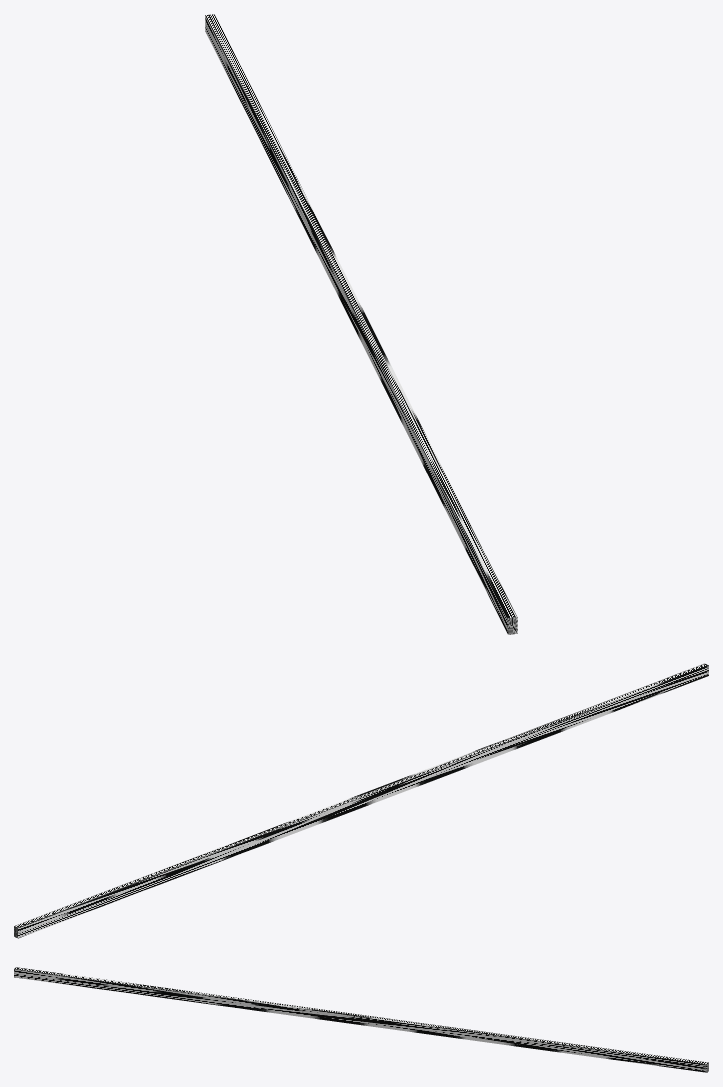
The picture shows the model from 3 angles, top to bottom: view 1: azimuth 30°, elevation 25°; view 2: azimuth 150°, elevation 25°; view 3: azimuth 270°, elevation 25°; orthographic projection. The views are drawn at different scales.
Parts seen in each view (by area): view 1: Cube.040; view 2: Cube.040; view 3: Cube.040.
Part boxes in pixels (left/top/right/bottom): Cube.040: left=205, top=14, right=517, bottom=634; Cube.040: left=14, top=663, right=708, bottom=938; Cube.040: left=14, top=967, right=708, bottom=1072.
Size of the model in its own units: 6.54 by 0.2606 by 19.73.
1 material, 1 textured.
